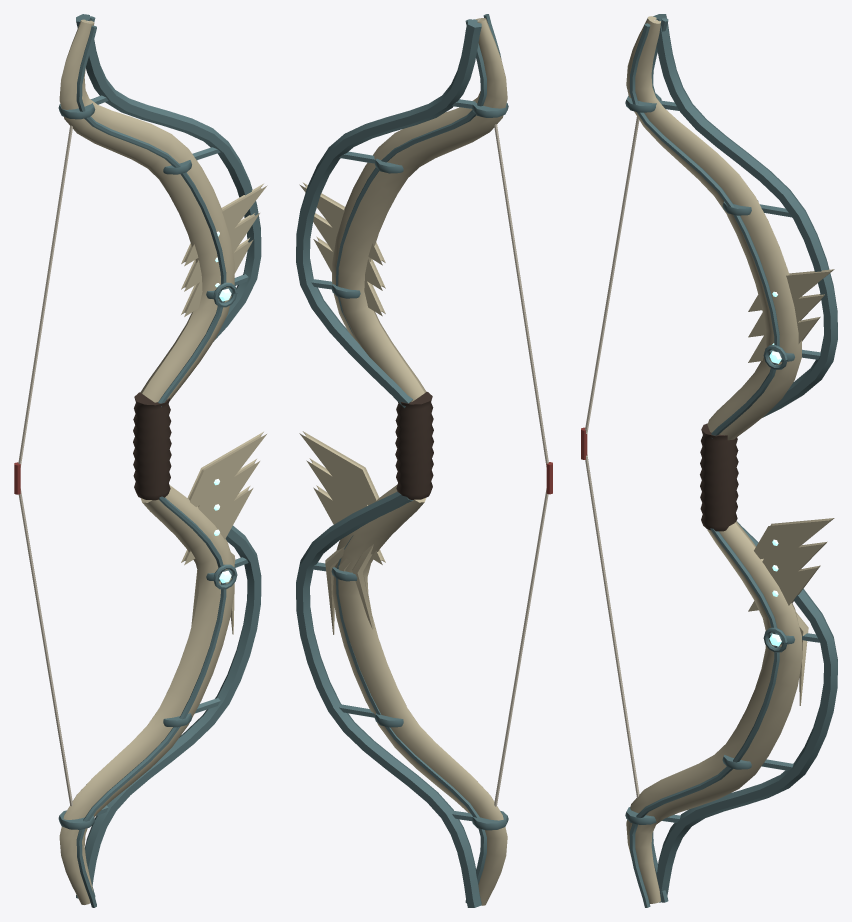
Rendered from boss_gale_nomad_main_weapon.glb.
3 renders of one model, left to right at view 1: azimuth 30°, elevation 25°; view 2: azimuth 150°, elevation 25°; view 3: azimuth 330°, elevation 25°, orthographic.
Parts seen in each view (by area): view 1: boss_gale_nomad_main_weapon; view 2: boss_gale_nomad_main_weapon; view 3: boss_gale_nomad_main_weapon.
Boxes of the visible parts, left/top/right/bottom form: boss_gale_nomad_main_weapon: left=14, top=14, right=267, bottom=907; boss_gale_nomad_main_weapon: left=296, top=14, right=552, bottom=907; boss_gale_nomad_main_weapon: left=581, top=14, right=837, bottom=907.
Size of the model in its own units: 0.4671 by 1.57 by 0.0643.
